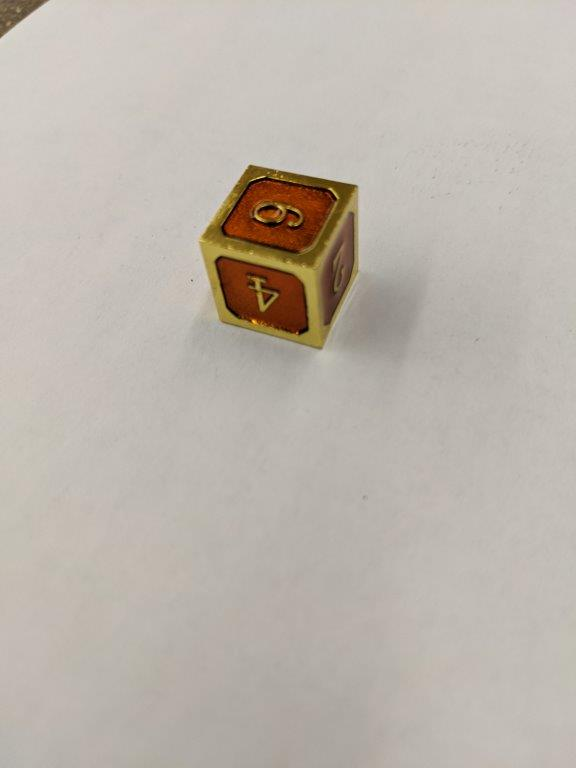d6-6: (200, 162, 358, 347)
